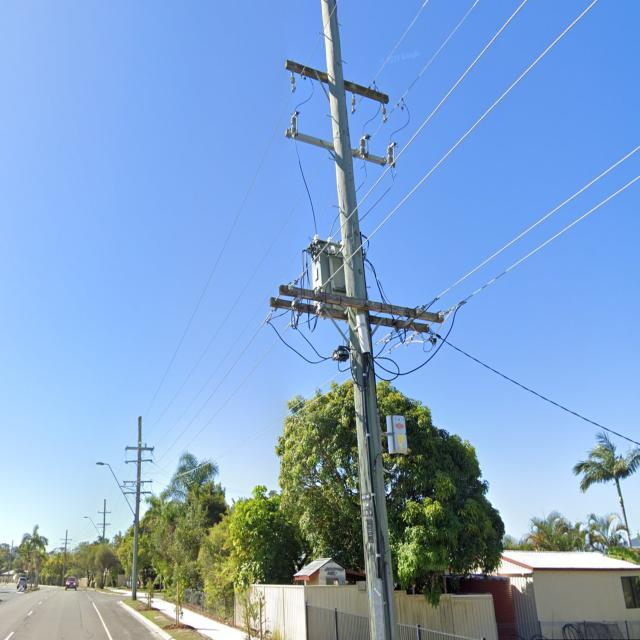HV-transmission: (284, 58, 396, 167), (125, 444, 154, 464), (98, 510, 111, 514)
LV link: (265, 296, 300, 324), (382, 318, 412, 343), (290, 314, 318, 327)
LV link box: (331, 345, 351, 361)
crossarm: (279, 284, 445, 324), (270, 297, 430, 334), (286, 59, 389, 104), (283, 128, 388, 167), (125, 446, 154, 452), (125, 459, 152, 463), (122, 481, 152, 484), (123, 492, 151, 494), (97, 523, 111, 525), (98, 512, 111, 514), (60, 539, 72, 540), (62, 543, 70, 544)
streetlight: (96, 462, 136, 515), (84, 516, 103, 542)
timber-pole: (324, 50, 398, 640), (131, 416, 142, 600), (62, 529, 68, 587), (102, 499, 106, 542)
transformer: (307, 234, 348, 311)
